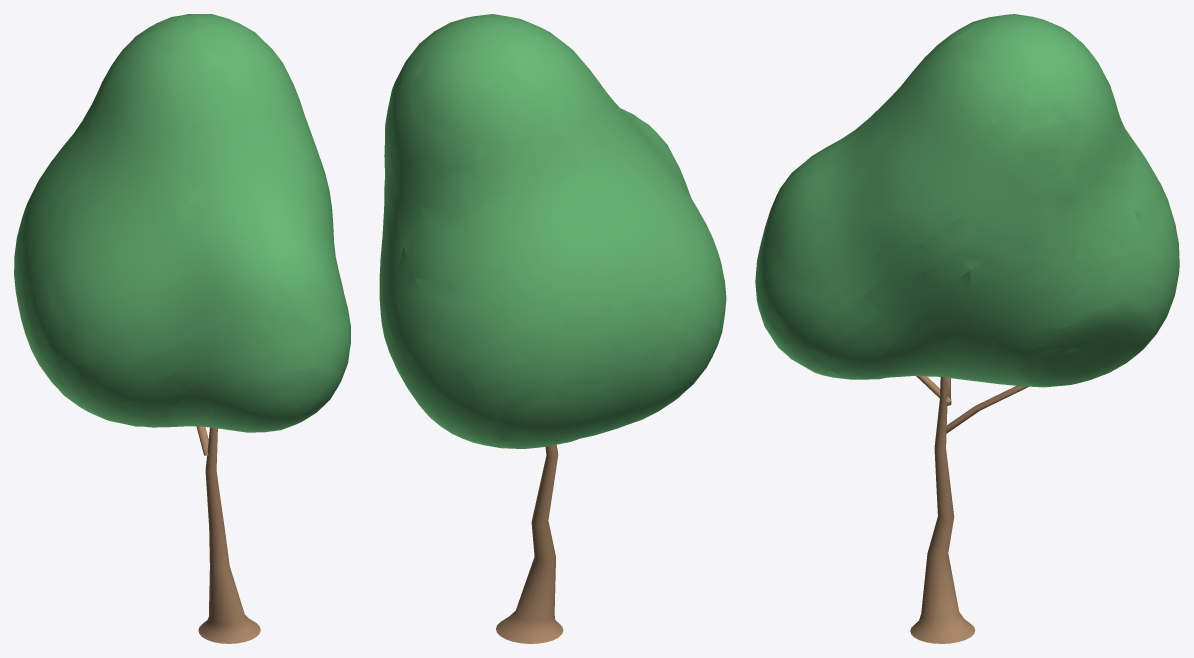
The model's file is Cartoon_Trees_Pack_Tree_1.glb.
3 views of the same model, side by side, from view 1: azimuth 30°, elevation 25°; view 2: azimuth 150°, elevation 25°; view 3: azimuth 270°, elevation 25° (orthographic). The views are drawn at different scales.
Parts seen in each view (by area): view 1: 02_Leaves, 01_Trunk; view 2: 02_Leaves, 01_Trunk; view 3: 02_Leaves, 01_Trunk.
Part boxes in pixels (left/top/right/bottom): 02_Leaves: left=14, top=14, right=350, bottom=432; 01_Trunk: left=196, top=426, right=260, bottom=643; 02_Leaves: left=379, top=14, right=726, bottom=448; 01_Trunk: left=496, top=444, right=563, bottom=643; 02_Leaves: left=755, top=14, right=1179, bottom=387; 01_Trunk: left=910, top=376, right=1028, bottom=643.
Size of the model in its own units: 4.88 by 10 by 6.31.
